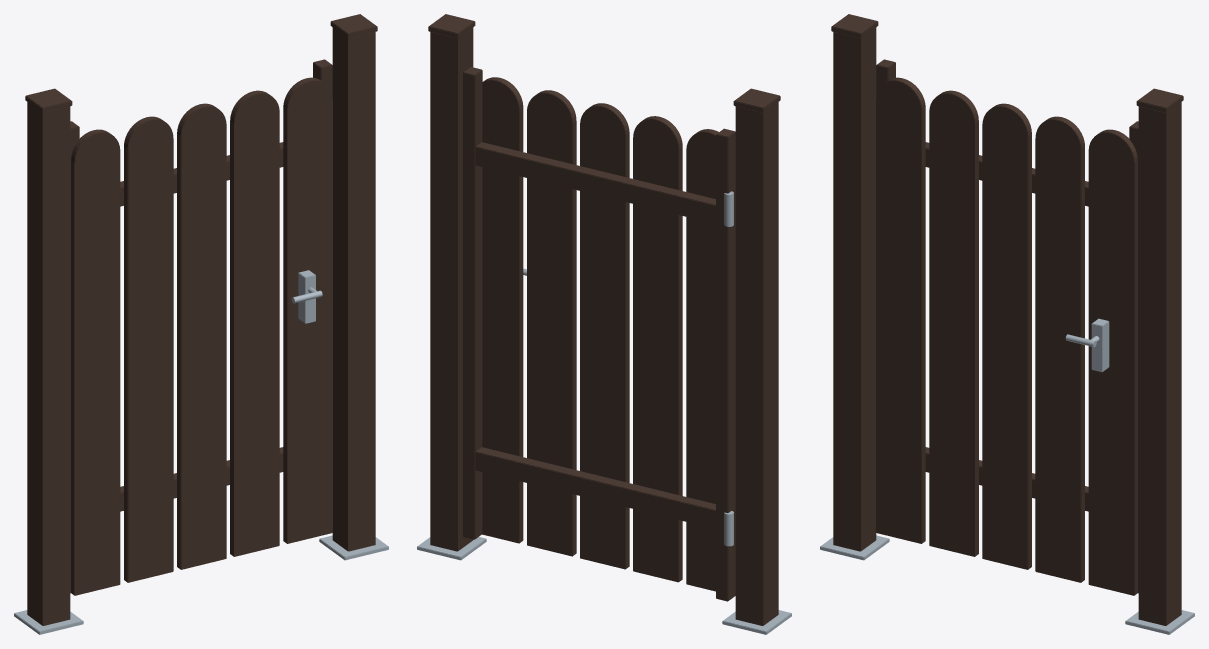
The model's file is 10-pesacka.glb.
3 views of the same model, side by side, from view 1: azimuth 30°, elevation 25°; view 2: azimuth 150°, elevation 25°; view 3: azimuth 330°, elevation 25° (orthographic).
Visible parts, largest first — view 1: Ispuna_zaobljena_letvica.065, Ispuna_zaobljena_letvica.063, Ispuna_zaobljena_letvica.064, Ispuna_zaobljena_letvica.062, Stub_levi.036, Stub_desni.036, Ispuna_zaobljena_letvica.066, Okov_brava.036, Kapa_stuba.072, Kapa_stuba.073, Stopa_stuba.073, Stopa_stuba.072 (+1 smaller); view 2: Stub_levi.036, Ispuna_zaobljena_letvica.065, Ispuna_zaobljena_letvica.064, Ispuna_zaobljena_letvica.063, Stub_desni.036, Ispuna_zaobljena_letvica.066, Ispuna_zaobljena_letvica.062, Ram_bocni.061, Ram_bocni.060, Ram_poprecni_nosac.010, Ram_poprecni_nosac.011, Kapa_stuba.072 (+3 smaller); view 3: Ispuna_zaobljena_letvica.063, Ispuna_zaobljena_letvica.062, Ispuna_zaobljena_letvica.064, Ispuna_zaobljena_letvica.065, Stub_desni.036, Stub_levi.036, Ispuna_zaobljena_letvica.066, Okov_brava.036, Kapa_stuba.073, Kapa_stuba.072, Stopa_stuba.072, Stopa_stuba.073 (+1 smaller).
Part boxes in pixels (x1,y1,x2,y2): Ispuna_zaobljena_letvica.065: [230, 90, 279, 556]; Ispuna_zaobljena_letvica.063: [124, 116, 173, 582]; Ispuna_zaobljena_letvica.064: [177, 103, 226, 569]; Ispuna_zaobljena_letvica.062: [71, 129, 120, 595]; Stub_levi.036: [27, 102, 70, 625]; Stub_desni.036: [332, 27, 375, 551]; Ispuna_zaobljena_letvica.066: [283, 77, 332, 543]; Okov_brava.036: [298, 270, 315, 323]; Kapa_stuba.072: [25, 88, 72, 112]; Kapa_stuba.073: [330, 14, 377, 38]; Stopa_stuba.073: [319, 535, 388, 560]; Stopa_stuba.072: [14, 610, 83, 634]; Stub_levi.036: [735, 102, 778, 625]; Ispuna_zaobljena_letvica.065: [527, 90, 576, 556]; Ispuna_zaobljena_letvica.064: [580, 103, 629, 569]; Ispuna_zaobljena_letvica.063: [633, 116, 682, 582]; Stub_desni.036: [430, 27, 473, 551]; Ispuna_zaobljena_letvica.066: [482, 77, 523, 543]; Ispuna_zaobljena_letvica.062: [686, 129, 718, 591]; Ram_bocni.061: [463, 67, 482, 539]; Ram_bocni.060: [716, 128, 735, 601]; Ram_poprecni_nosac.010: [475, 447, 734, 528]; Ram_poprecni_nosac.011: [475, 142, 734, 223]; Kapa_stuba.072: [733, 88, 780, 112]; Ispuna_zaobljena_letvica.063: [929, 90, 978, 556]; Ispuna_zaobljena_letvica.062: [876, 77, 925, 543]; Ispuna_zaobljena_letvica.064: [982, 103, 1031, 569]; Ispuna_zaobljena_letvica.065: [1035, 116, 1084, 582]; Stub_desni.036: [1138, 102, 1181, 625]; Stub_levi.036: [833, 27, 876, 551]; Ispuna_zaobljena_letvica.066: [1088, 129, 1137, 595]; Okov_brava.036: [1091, 318, 1109, 372]; Kapa_stuba.073: [1136, 88, 1183, 112]; Kapa_stuba.072: [831, 14, 878, 38]; Stopa_stuba.072: [820, 535, 889, 560]; Stopa_stuba.073: [1125, 610, 1194, 634].
Bounding box in the file's own units: 1.26 × 1.8 × 0.19.
